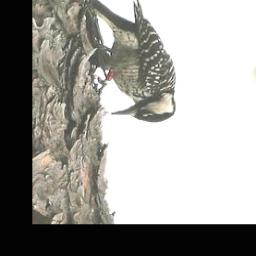Woodpecker: (85, 0, 177, 123)
